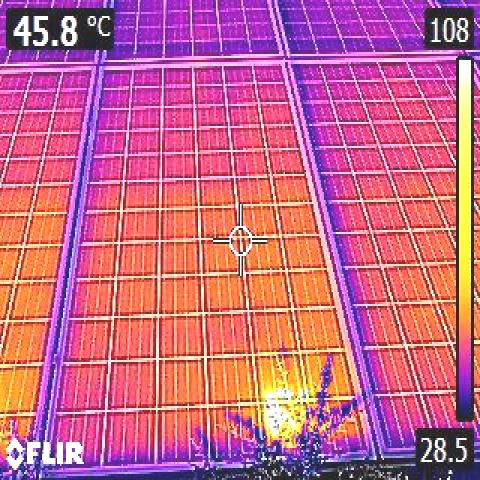fault: (262, 399, 304, 430)
